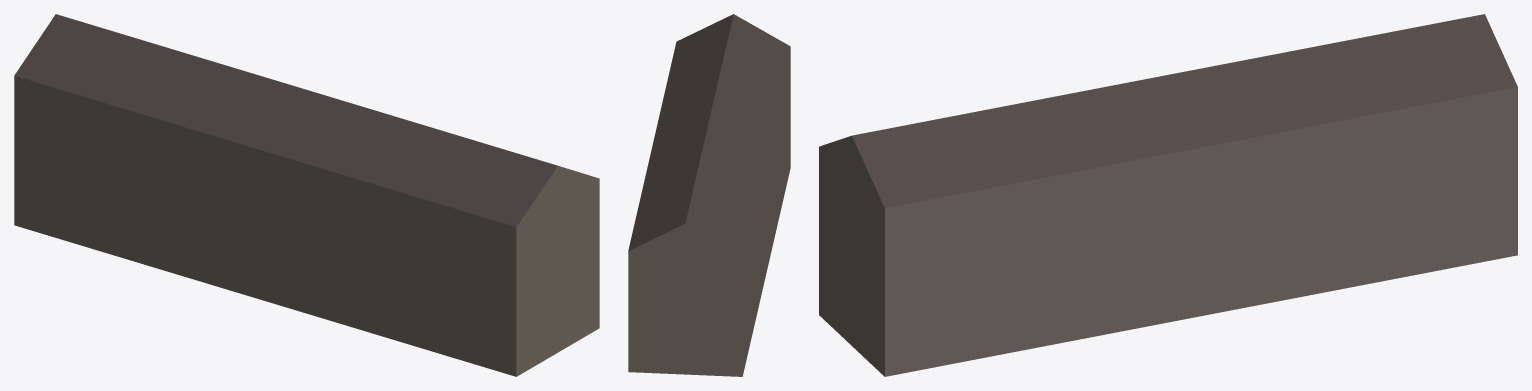
3 renders of one model, left to right at view 1: azimuth 30°, elevation 25°; view 2: azimuth 150°, elevation 25°; view 3: azimuth 270°, elevation 25°, orthographic. The views are drawn at different scales.
Visible parts, largest first — view 1: HP-w859082577; view 2: HP-w859082577; view 3: HP-w859082577.
Boxes of the visible parts, bbox=[...] form: HP-w859082577: bbox=[14, 14, 599, 376]; HP-w859082577: bbox=[628, 14, 790, 376]; HP-w859082577: bbox=[819, 14, 1517, 376].
Bounding box in the file's own units: 21.01 × 11.24 × 33.83.
